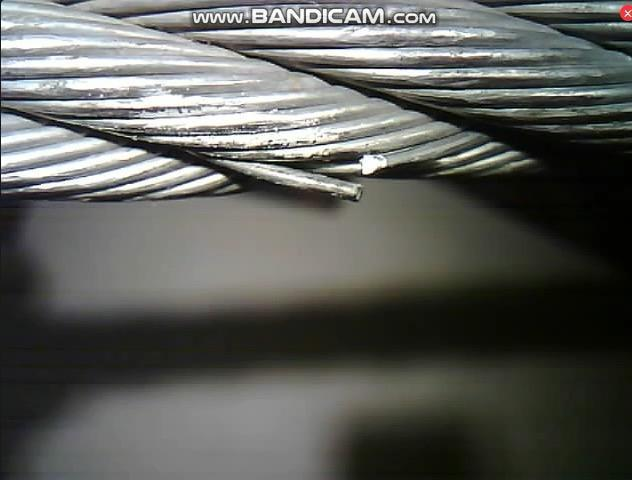break: (245, 143, 401, 209)
